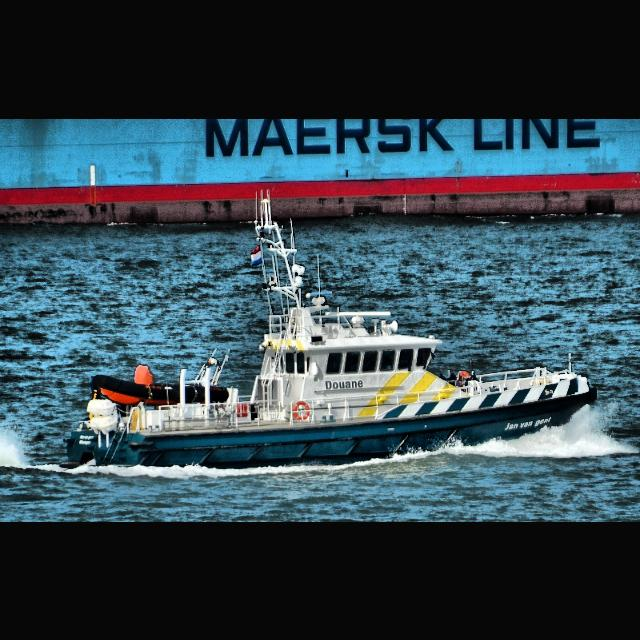patrol_vessel: (57, 233, 603, 473)
